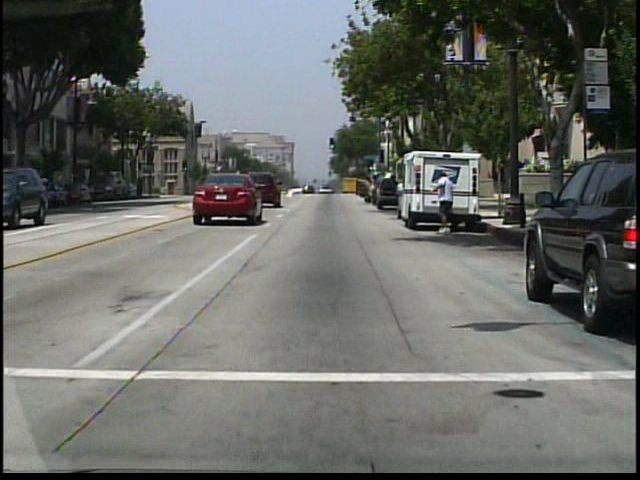person: (431, 171, 462, 237), (374, 173, 375, 208)
